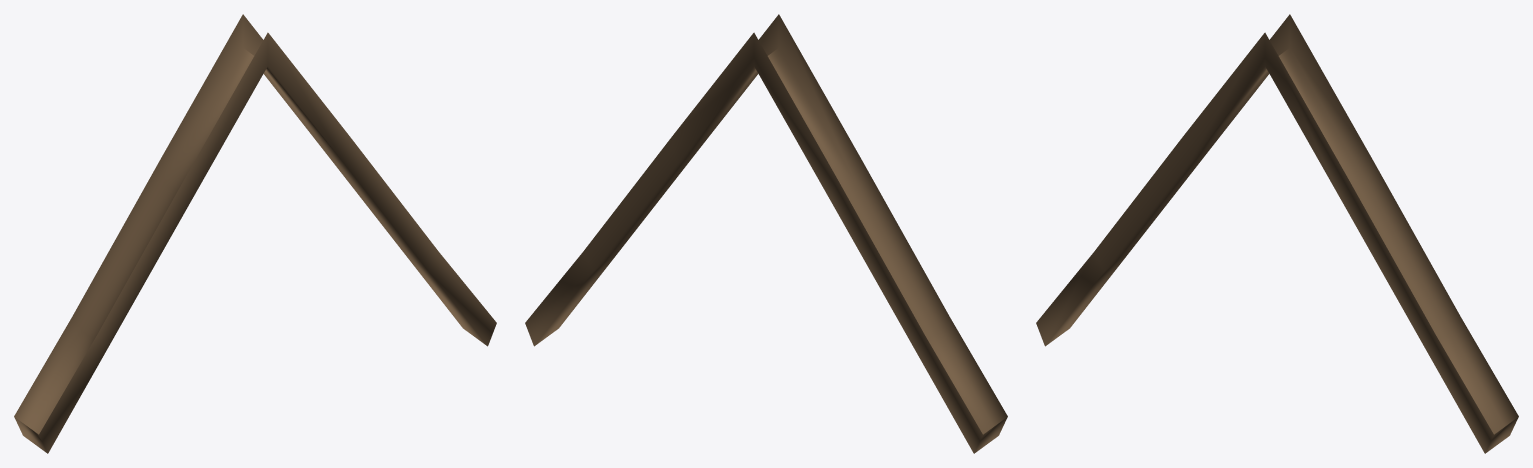
File: rpgpp_ag_roof_end_01_6x5_beam_a.fbx
3 views of the same model, side by side, from view 1: azimuth 30°, elevation 25°; view 2: azimuth 150°, elevation 25°; view 3: azimuth 330°, elevation 25° (orthographic).
Visible parts, largest first — view 1: rpgpp_ag_roof_end_01_6x5_beam_a; view 2: rpgpp_ag_roof_end_01_6x5_beam_a; view 3: rpgpp_ag_roof_end_01_6x5_beam_a.
Part boxes in pixels (bbox=[...]): rpgpp_ag_roof_end_01_6x5_beam_a: bbox=[14, 14, 496, 453]; rpgpp_ag_roof_end_01_6x5_beam_a: bbox=[525, 14, 1007, 453]; rpgpp_ag_roof_end_01_6x5_beam_a: bbox=[1036, 14, 1518, 453].
Bounding box in the file's own units: 6.94 × 5.33 × 0.6538.
